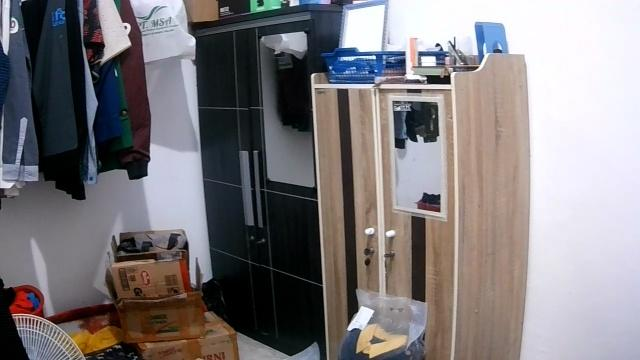Lemari: (191, 7, 327, 359), (310, 85, 458, 359)
